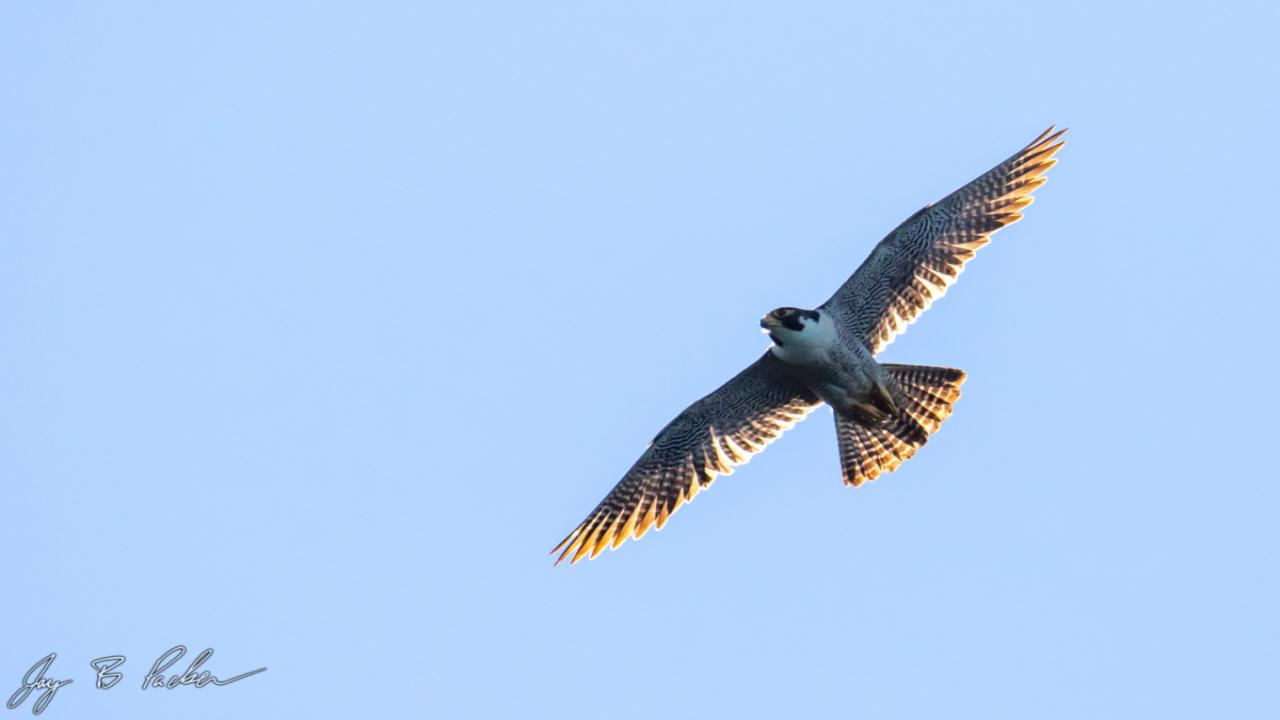Bird: (542, 118, 1080, 576)
